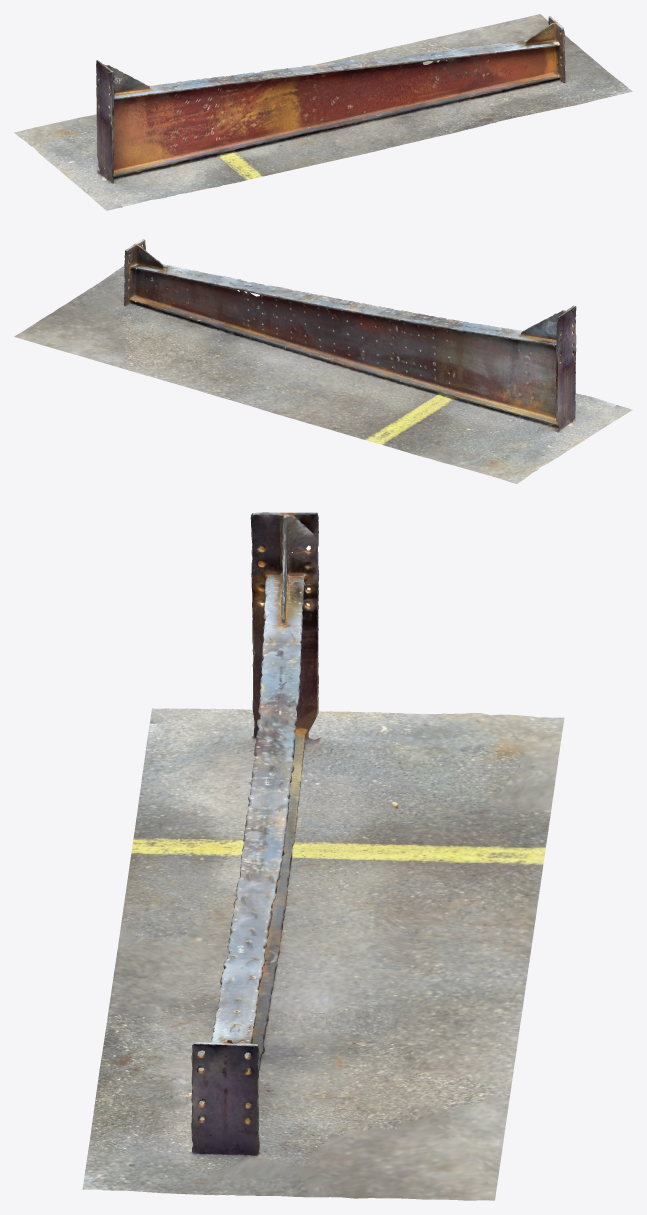
The picture shows the model from 3 angles, top to bottom: view 1: azimuth 30°, elevation 25°; view 2: azimuth 150°, elevation 25°; view 3: azimuth 270°, elevation 25°; orthographic projection. The views are drawn at different scales.
Size of the model in its own units: 3.89 by 0.8116 by 1.56.
1 material, 1 textured.
